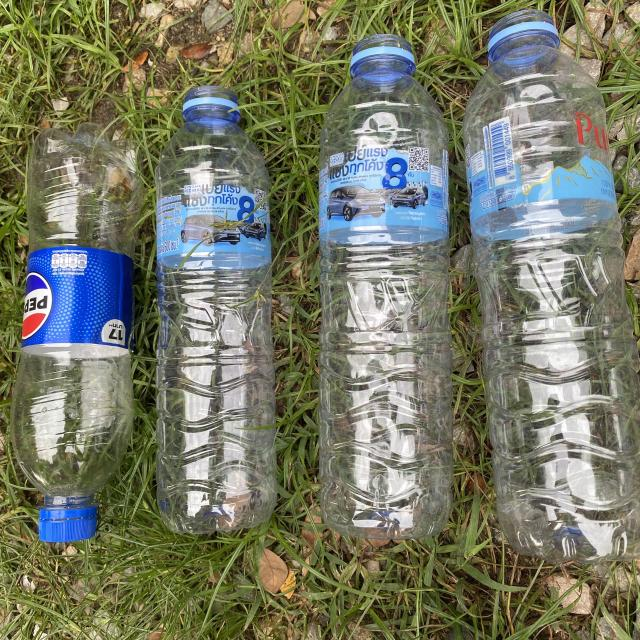plastik: (464, 11, 640, 562), (319, 35, 452, 540), (11, 122, 140, 542), (156, 86, 276, 534)
